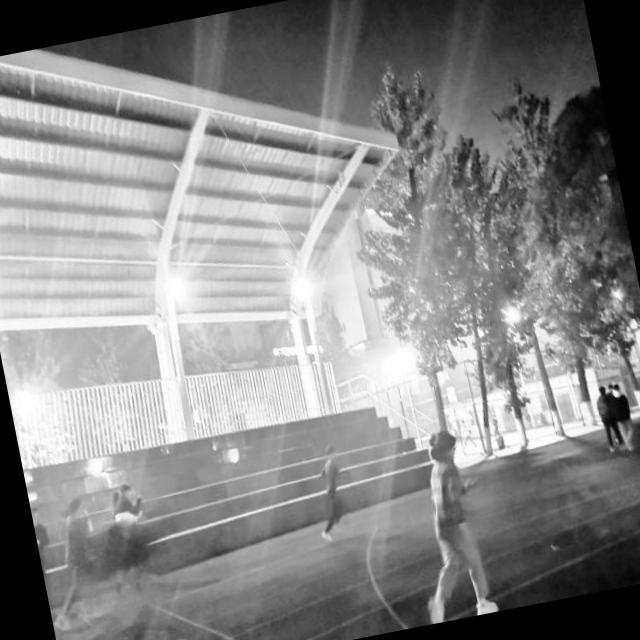Light: (136, 240, 208, 338), (366, 310, 441, 402), (268, 252, 326, 334), (4, 368, 44, 443), (494, 295, 524, 333)
Tree: (437, 224, 513, 459), (543, 244, 608, 435), (607, 230, 640, 413)
